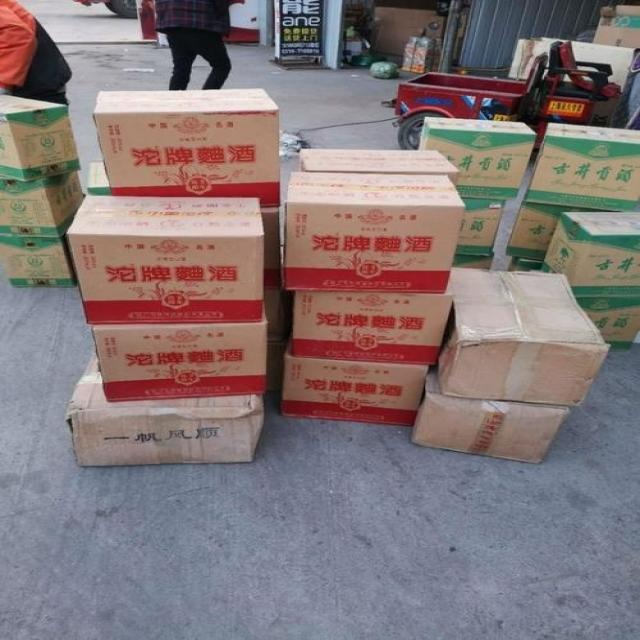box: (70, 196, 265, 322), (60, 351, 266, 467), (438, 265, 607, 406), (95, 88, 280, 205), (285, 172, 465, 291), (93, 304, 285, 401), (413, 375, 570, 466), (296, 282, 452, 366), (282, 348, 428, 426), (524, 123, 639, 211), (419, 119, 536, 198), (541, 211, 639, 297), (1, 94, 79, 180), (0, 169, 84, 239), (504, 201, 599, 261), (300, 149, 458, 173), (3, 237, 73, 288), (577, 297, 637, 349), (452, 198, 503, 256), (261, 208, 282, 286), (87, 162, 111, 195), (508, 256, 548, 272), (451, 254, 495, 268)
